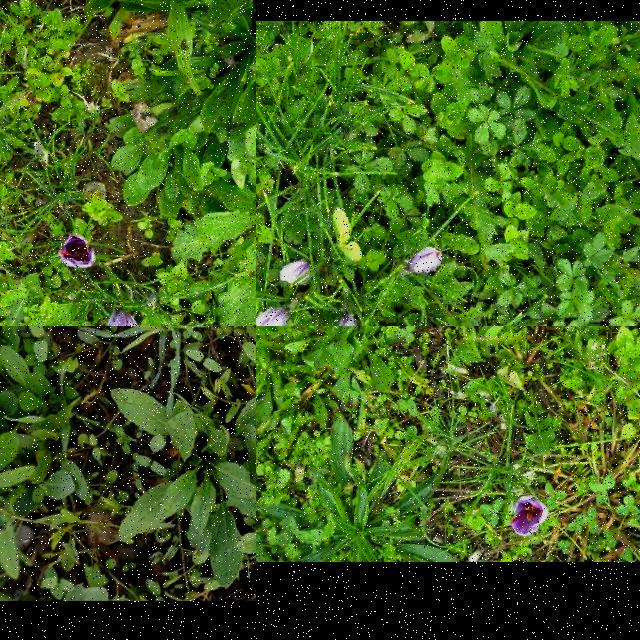flower: (512, 496, 548, 538), (60, 234, 96, 270), (406, 248, 444, 274), (280, 260, 314, 286), (256, 306, 291, 326), (111, 313, 143, 326)
overlap: (336, 315, 386, 326)
